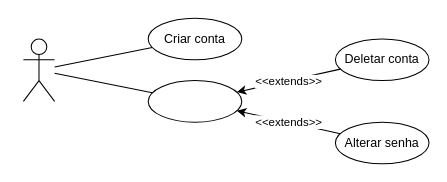
This 447x182 diagram has some shape labels left out. The centre of each missing label's shape, as x and y in pixels:
"Editar conta" goes at (194,101).
"Usuário" goes at (38,69).
